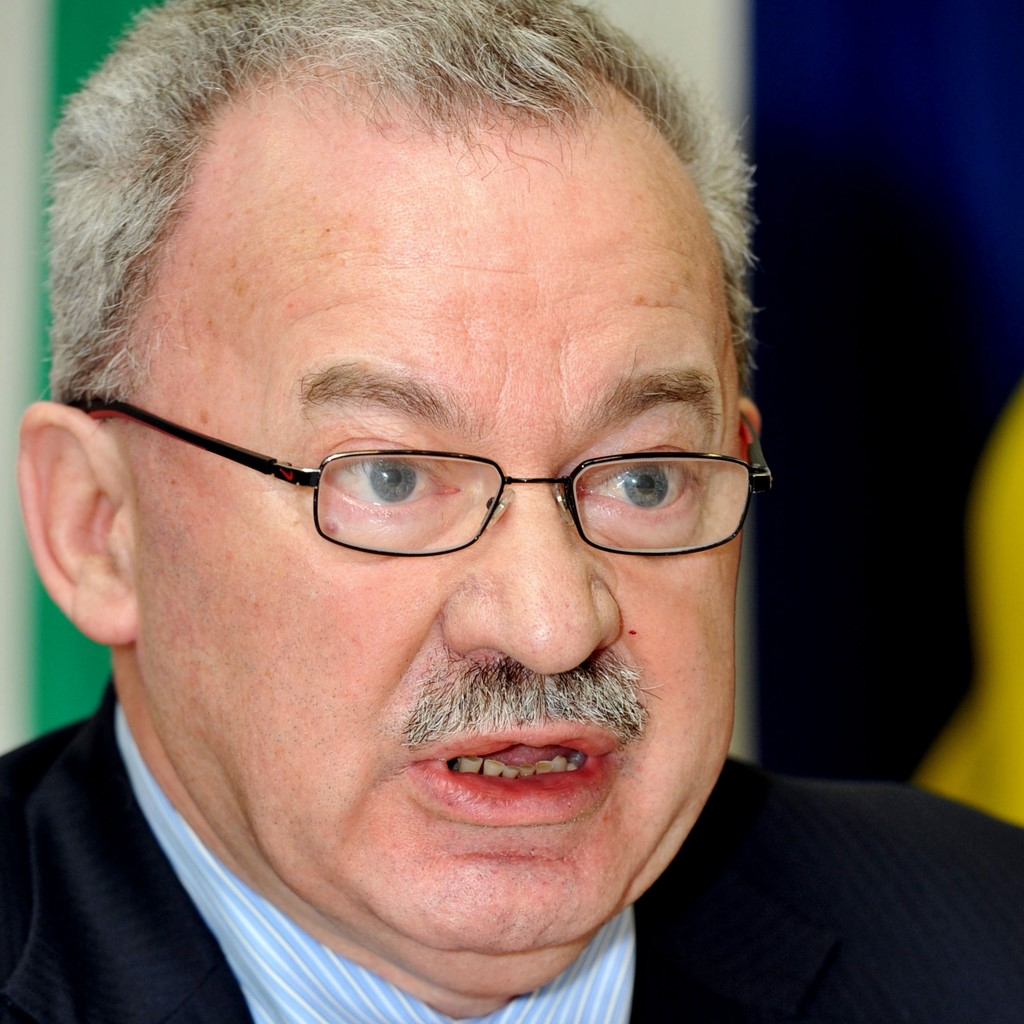sin_mascara: (105, 91, 753, 980)
